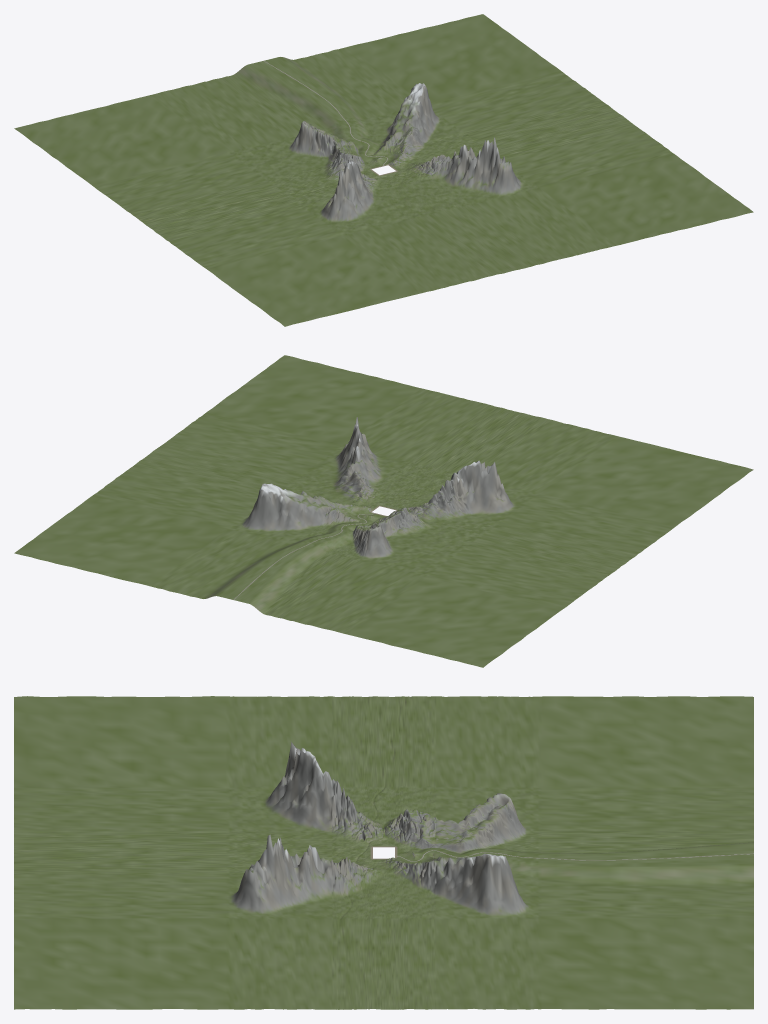
Rendered from altai-landscape.glb.
3 views of the same model, one above another, from view 1: azimuth 30°, elevation 25°; view 2: azimuth 150°, elevation 25°; view 3: azimuth 270°, elevation 25° (orthographic). The views are drawn at different scales.
Parts seen in each view (by area): view 1: MountainGround; view 2: MountainGround; view 3: MountainGround.
Boxes of the visible parts, x1=… form: MountainGround: x1=14, y1=14, x2=753, y2=326; MountainGround: x1=14, y1=355, x2=753, y2=667; MountainGround: x1=14, y1=696, x2=753, y2=1009.
Size of the model in its own units: 28000 by 2739 by 28001.
Materials: 2 (1 with a texture image).
